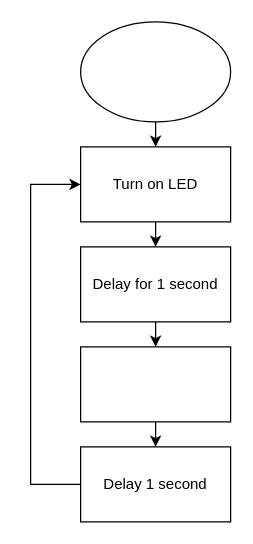
This 253x544 diagram has some shape labels left out. The centre of each missing label's shape, as x and y in pixels:
"Run Program" belongs at [155,71].
"Turn off LED" belongs at [155,384].
